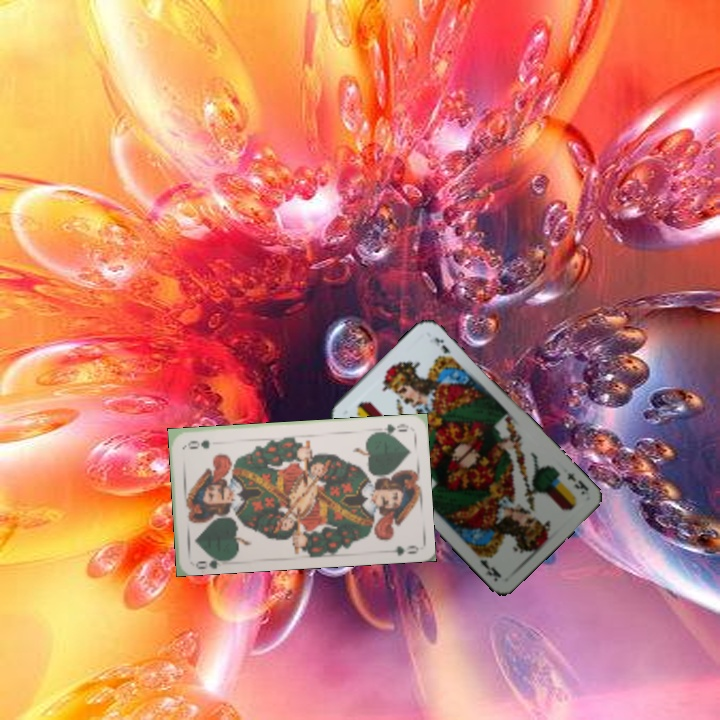EK: (563, 468, 591, 498)
GO: (192, 550, 231, 571), (371, 419, 411, 438)
